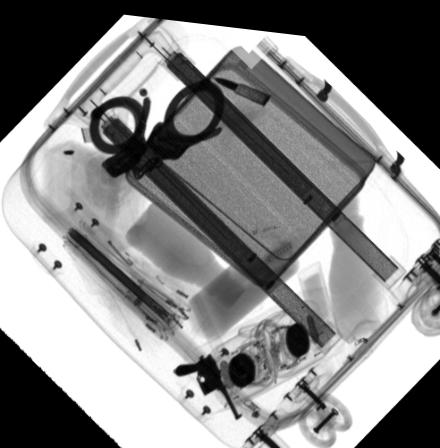Bullet: (209, 70, 272, 102)
Gun: (175, 348, 240, 413)
HandCuffs: (86, 75, 225, 179)
